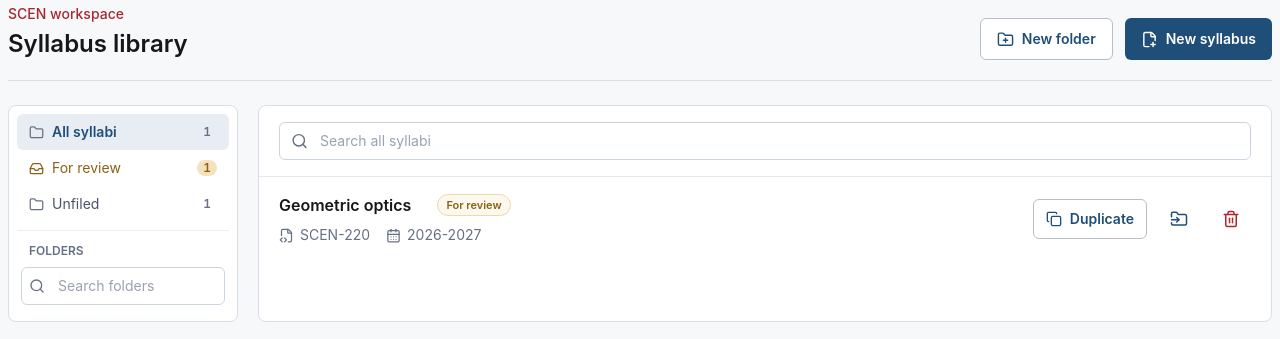
it: What a syllabus is doing, in the library › does not tell somebody who wrote a syllabus that they wrote it
Click the button "For review 1" at point(123, 168), box left=17, top=150, right=229, bottom=186
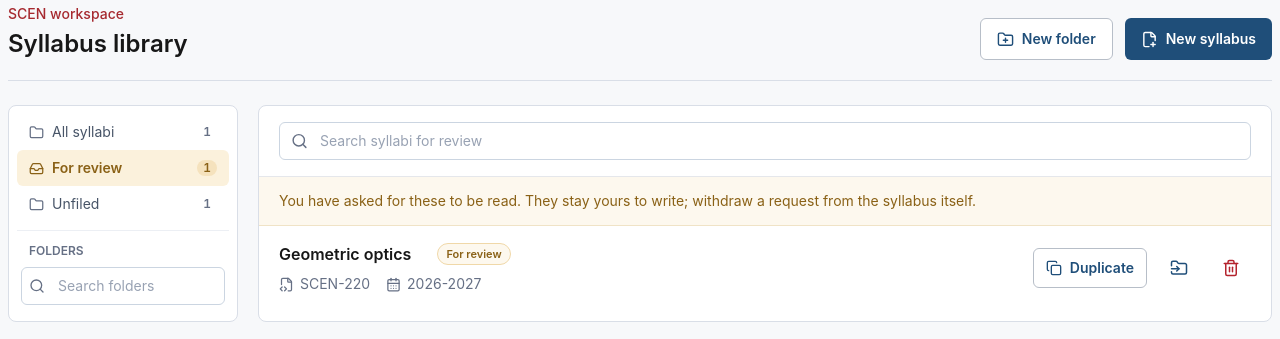
Now the text "You have asked for these to be read" is shown, box left=279, top=192, right=976, bottom=209
